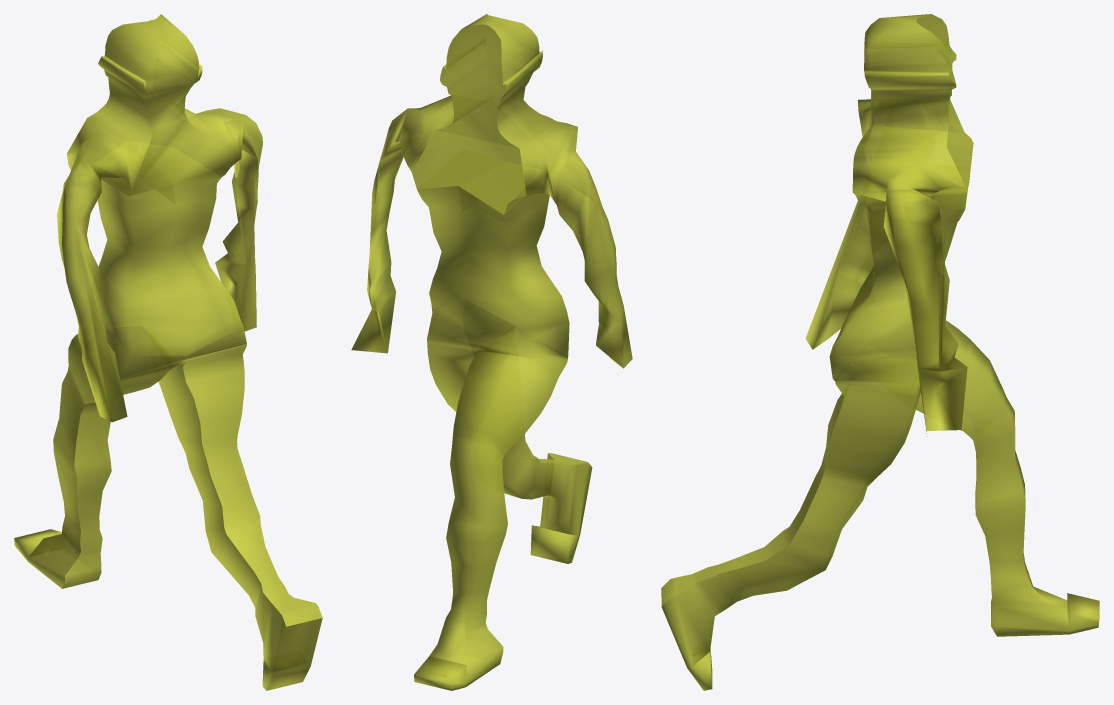
File: woman_000030.obj
3 renders of one model, left to right at view 1: azimuth 30°, elevation 25°; view 2: azimuth 150°, elevation 25°; view 3: azimuth 270°, elevation 25°, orthographic. The views are drawn at different scales.
Visible parts, largest first — view 1: Cube_Cube.001; view 2: Cube_Cube.001; view 3: Cube_Cube.001.
Boxes of the visible parts, left/top/right/bottom form: Cube_Cube.001: left=14, top=14, right=322, bottom=690; Cube_Cube.001: left=351, top=14, right=632, bottom=690; Cube_Cube.001: left=661, top=14, right=1099, bottom=690.
Size of the model in its own units: 3.62 by 9.68 by 5.97.
